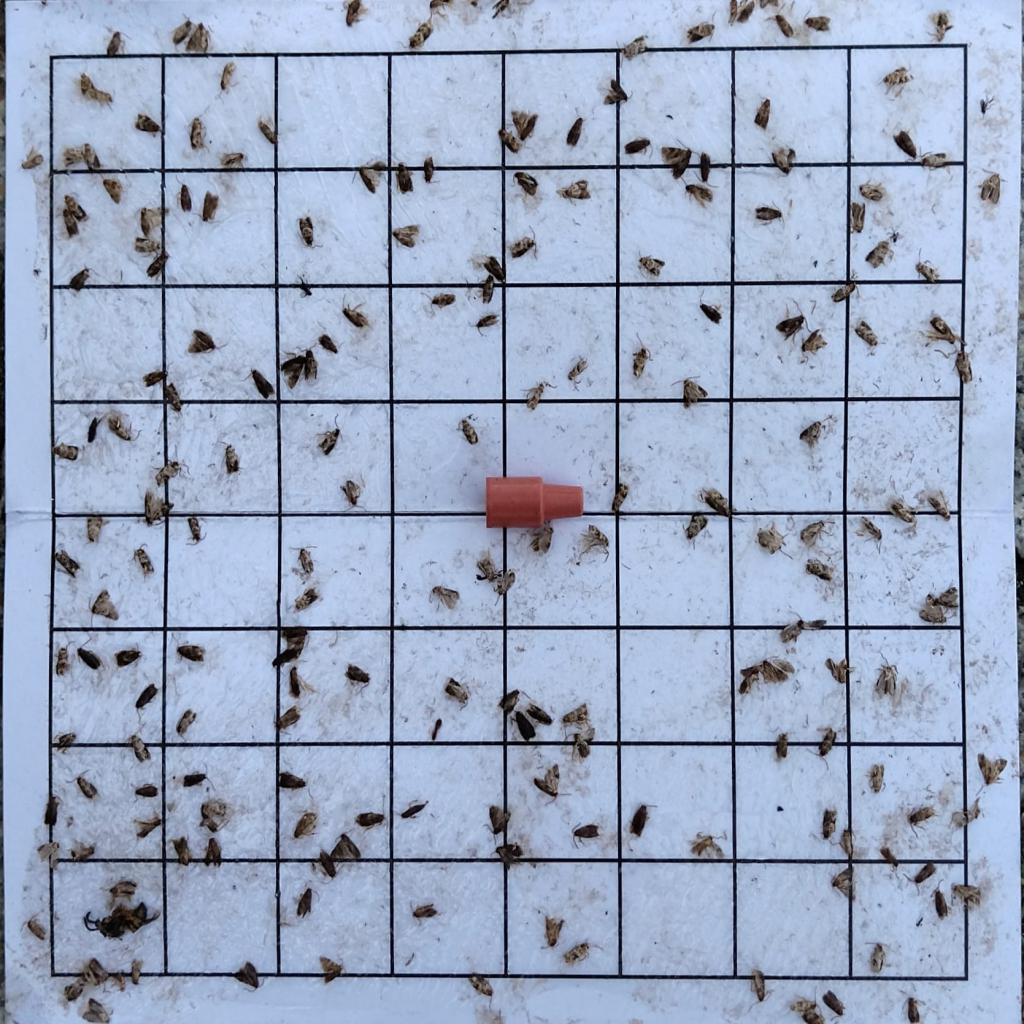grape_moth: (532, 762, 573, 808), (696, 484, 742, 524), (656, 138, 698, 180), (972, 751, 1010, 797), (572, 522, 612, 562), (155, 443, 192, 486), (480, 802, 516, 846), (944, 794, 982, 835), (756, 520, 794, 560), (670, 371, 709, 409), (805, 726, 838, 770), (922, 313, 962, 349), (874, 64, 916, 98), (507, 220, 542, 260), (192, 186, 223, 230), (976, 166, 1010, 206), (82, 586, 116, 626), (566, 726, 598, 768), (610, 31, 645, 69), (196, 796, 230, 835), (808, 805, 841, 845), (873, 650, 900, 698), (140, 488, 172, 528), (187, 103, 213, 152), (689, 828, 728, 860), (348, 156, 380, 195), (746, 968, 773, 1014), (466, 971, 497, 1011), (169, 632, 209, 663), (760, 0, 792, 38), (520, 378, 558, 410), (757, 654, 795, 686), (82, 956, 114, 994), (314, 411, 340, 457), (949, 880, 984, 914), (796, 516, 832, 548), (795, 326, 826, 363), (776, 607, 807, 644), (906, 802, 936, 840), (340, 290, 370, 328), (396, 20, 434, 50), (66, 768, 101, 800), (130, 111, 168, 140), (856, 238, 890, 270), (424, 582, 458, 614), (826, 865, 856, 901), (18, 908, 48, 944), (102, 414, 140, 442), (561, 940, 605, 964), (680, 178, 714, 209), (629, 248, 664, 278), (788, 986, 823, 1016), (915, 594, 950, 624), (914, 246, 940, 286), (857, 514, 883, 554), (749, 90, 775, 130), (534, 914, 562, 951), (677, 510, 704, 548), (171, 704, 198, 742), (684, 12, 716, 44), (288, 543, 320, 575), (178, 20, 210, 52), (858, 940, 888, 974), (337, 478, 367, 512), (632, 330, 653, 378), (562, 701, 590, 737), (508, 109, 538, 142), (830, 271, 860, 304), (415, 288, 453, 314), (218, 438, 244, 476), (124, 726, 150, 764), (770, 145, 799, 179), (297, 215, 325, 250), (127, 541, 154, 577), (270, 702, 300, 734), (929, 8, 957, 42), (462, 310, 496, 338), (78, 994, 112, 1022), (556, 178, 594, 203), (820, 656, 850, 686), (384, 220, 415, 249), (408, 898, 440, 926), (800, 555, 833, 582), (472, 548, 498, 582), (928, 488, 954, 522), (456, 412, 482, 446), (135, 200, 158, 238), (53, 638, 76, 676), (51, 436, 80, 466), (952, 348, 976, 384), (738, 660, 762, 696), (888, 494, 916, 524), (214, 59, 238, 94), (104, 24, 132, 54), (180, 516, 208, 546), (801, 5, 832, 32), (566, 354, 588, 392), (440, 676, 466, 708), (314, 952, 340, 984), (489, 570, 512, 606), (36, 840, 62, 871), (608, 482, 628, 522), (850, 319, 878, 347), (293, 810, 321, 838), (338, 2, 366, 30), (60, 194, 88, 222), (51, 550, 78, 579), (862, 761, 885, 795), (132, 812, 162, 838), (162, 382, 186, 413), (726, 0, 754, 26), (293, 588, 321, 614), (90, 84, 118, 110), (920, 150, 953, 172), (798, 418, 822, 448), (529, 525, 553, 555), (100, 174, 124, 204), (852, 179, 883, 202), (171, 834, 193, 866), (200, 836, 222, 868), (252, 116, 276, 145), (134, 232, 164, 255), (60, 206, 80, 240), (61, 144, 87, 170), (16, 146, 44, 170), (494, 126, 518, 154), (78, 516, 101, 545), (170, 16, 192, 46), (848, 200, 866, 236), (62, 976, 86, 1003), (66, 840, 94, 863), (80, 138, 100, 170), (106, 880, 137, 900), (772, 729, 791, 760), (474, 272, 493, 303), (833, 826, 852, 856), (934, 586, 958, 608), (218, 150, 246, 168), (128, 956, 146, 984), (79, 69, 95, 97)
